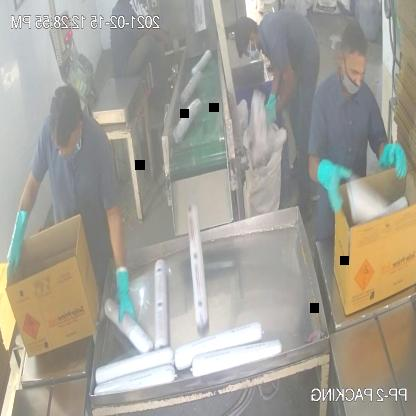glove: (303, 146, 363, 220), (369, 130, 412, 192), (0, 197, 33, 277), (109, 258, 144, 332)
no_glove: (133, 20, 177, 48)
